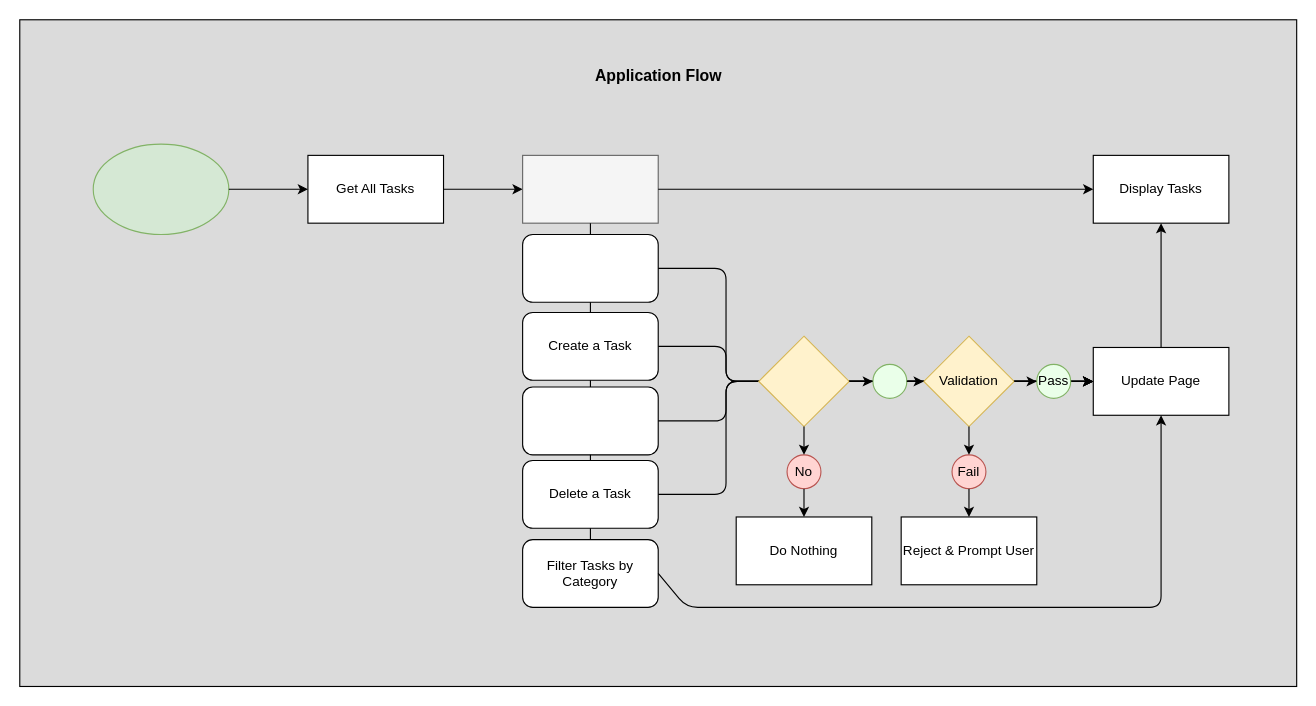
The diagram is 1316 pixels wide and 706 high, and some of its shapes have lost their labels. Here are the shapes that lost their labels. From the top down, the centre of each, then its label:
At [160,188]: "App".
At [589,188]: "Task Page".
At [589,267]: "Search Tasks".
At [803,381]: "Submit?".
At [889,380]: "Yes".
At [589,420]: "Edit a Task".
